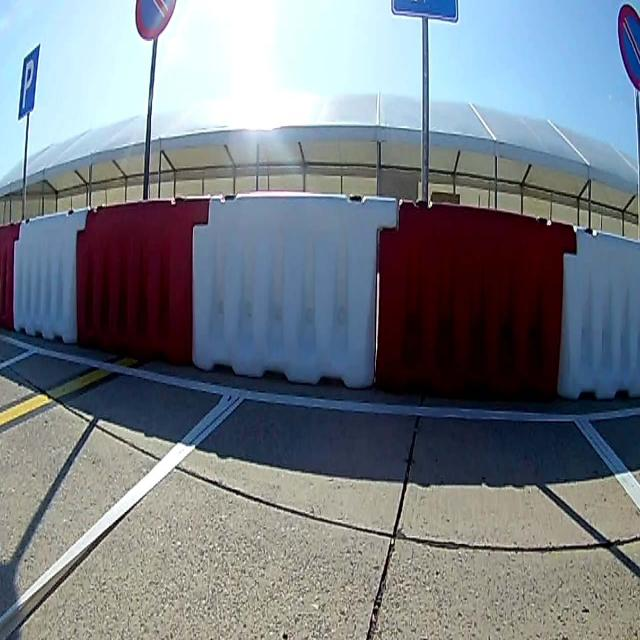park: (16, 48, 40, 116)
